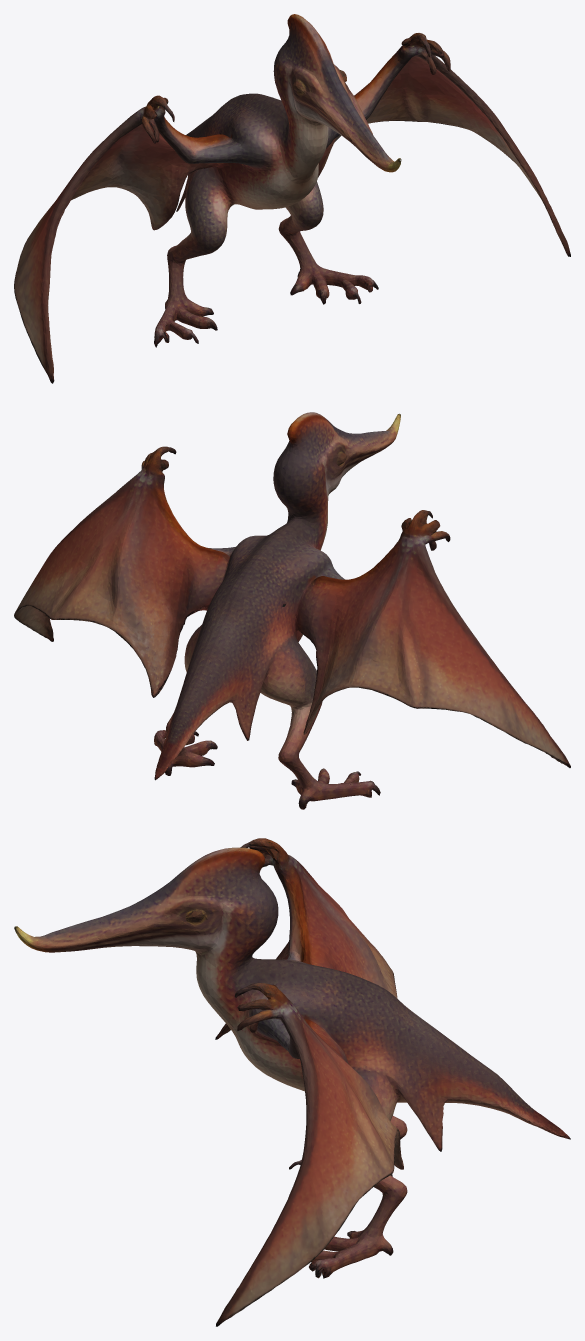
3 views of the same model, one above another, from view 1: azimuth 30°, elevation 25°; view 2: azimuth 150°, elevation 25°; view 3: azimuth 270°, elevation 25° (orthographic). The views are drawn at different scales.
Visible parts, largest first — view 1: world; view 2: world; view 3: world.
Part boxes in pixels (x1,y1,x2,y2): world: (14, 14, 570, 383); world: (14, 412, 570, 809); world: (14, 838, 570, 1326).
Size of the model in its own units: 3 by 1.8 by 2.45.
Materials: 1 (1 with a texture image).
